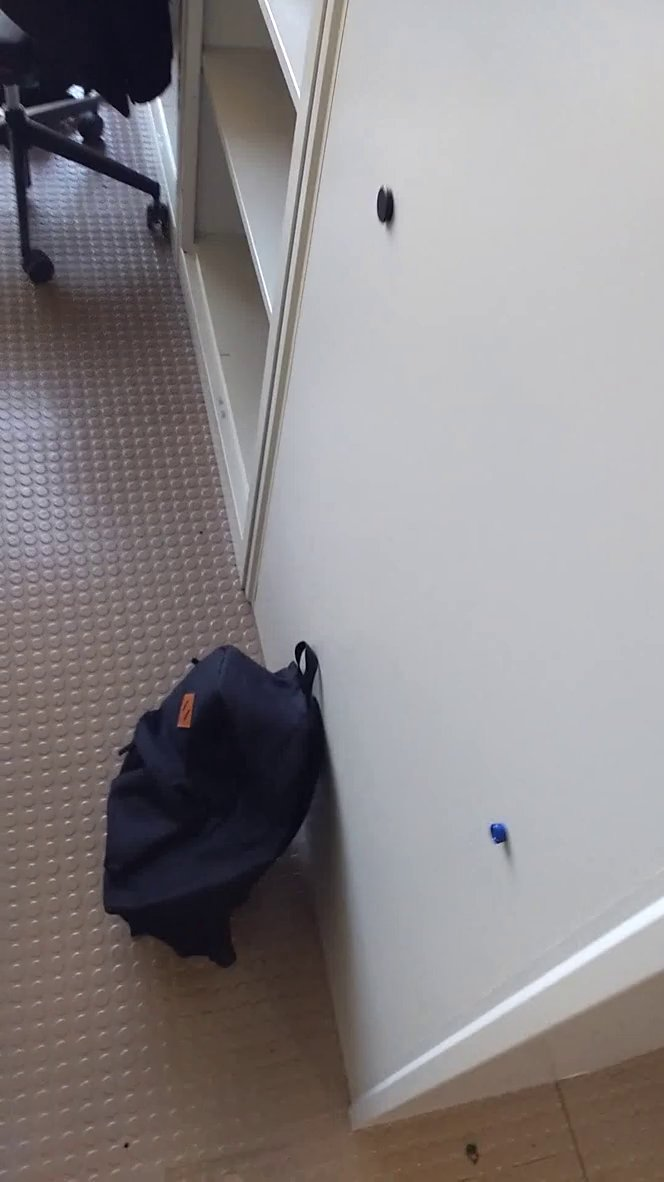bag: (91, 629, 358, 978)
